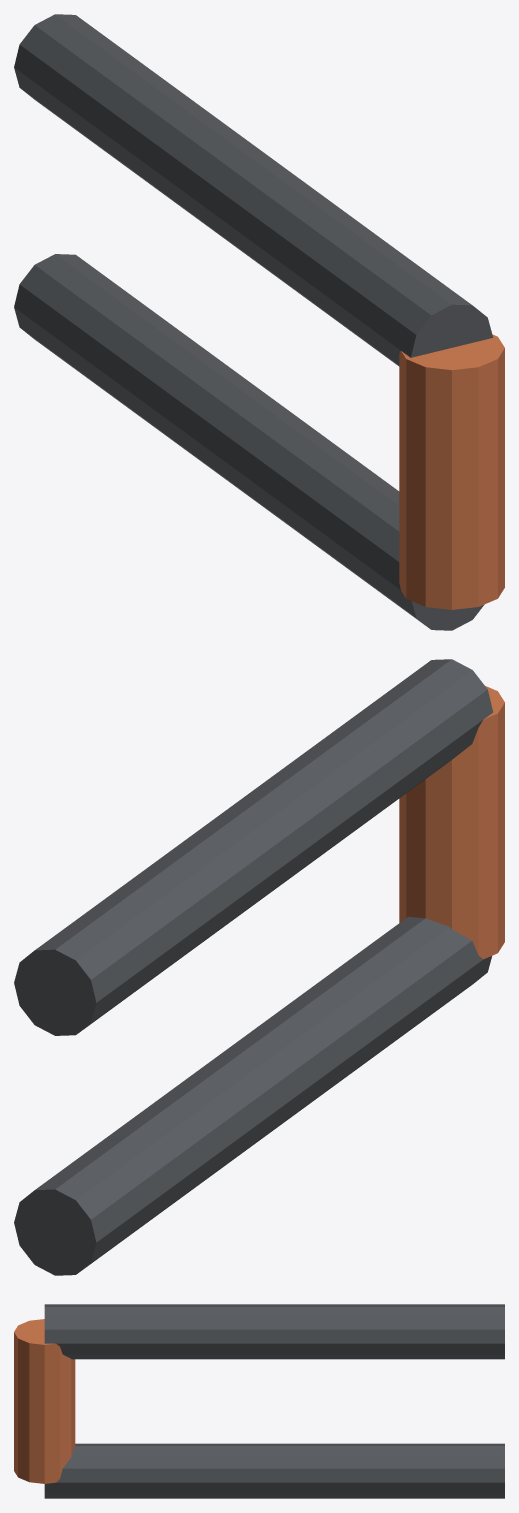
3 views of the same model, one above another, from view 1: azimuth 30°, elevation 25°; view 2: azimuth 150°, elevation 25°; view 3: azimuth 270°, elevation 25° (orthographic). The views are drawn at different scales.
Visible parts, largest first — view 1: geometry_0; view 2: geometry_0; view 3: geometry_0.
Part boxes in pixels (x1,y1,x2,y2): geometry_0: (14, 14, 504, 630); geometry_0: (14, 659, 504, 1275); geometry_0: (14, 1304, 504, 1498).
Bounding box in the file's own units: 0.04 × 0.136 × 0.32.
